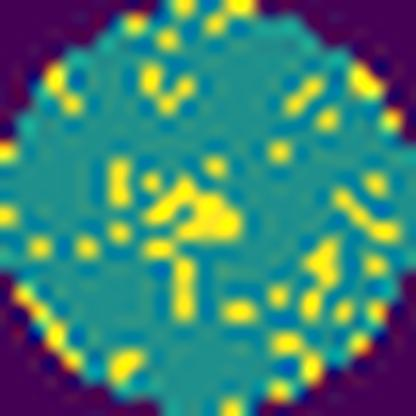Center: (144, 168, 250, 245)
